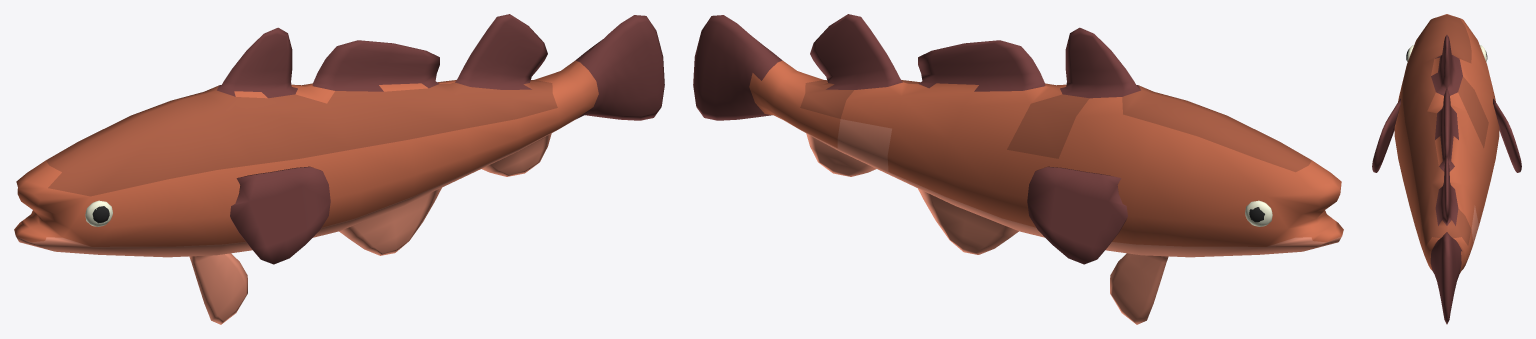
File: xueyu.fbx
3 renders of one model, left to right at view 1: azimuth 30°, elevation 25°; view 2: azimuth 150°, elevation 25°; view 3: azimuth 270°, elevation 25°, orthographic. The views are drawn at different scales.
Visible parts, largest first — view 1: body.001, wing; view 2: body.001, wing; view 3: body.001, wing.
Boxes of the visible parts, left/top/right/bottom form: body.001: left=14, top=14, right=664, bottom=324; wing: left=230, top=166, right=330, bottom=264; body.001: left=693, top=14, right=1343, bottom=324; wing: left=1027, top=166, right=1127, bottom=264; body.001: left=1394, top=14, right=1499, bottom=324; wing: left=1372, top=98, right=1521, bottom=172.
Size of the model in its own units: 183 by 76.43 by 46.63.
